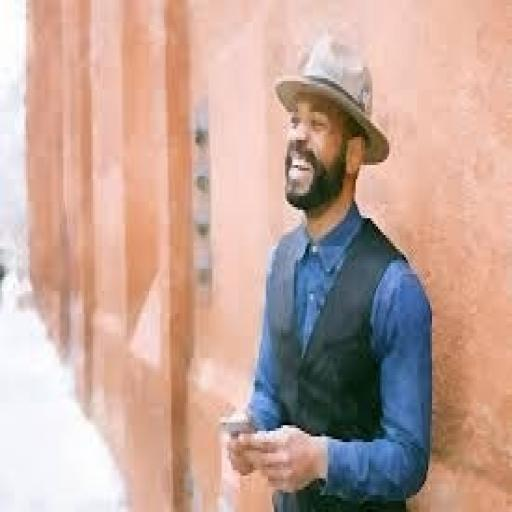laughing: (216, 28, 439, 506)
